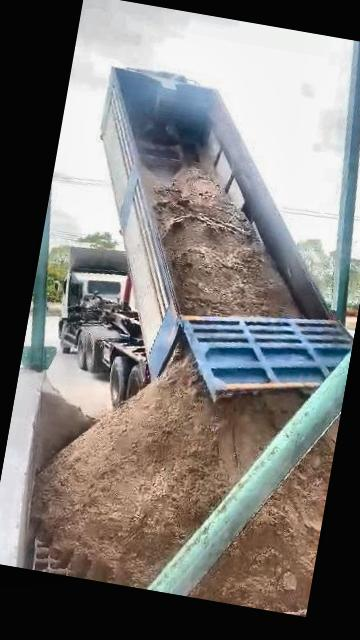sand: (33, 359, 303, 588), (194, 425, 337, 612), (144, 166, 299, 317), (34, 381, 93, 474)
